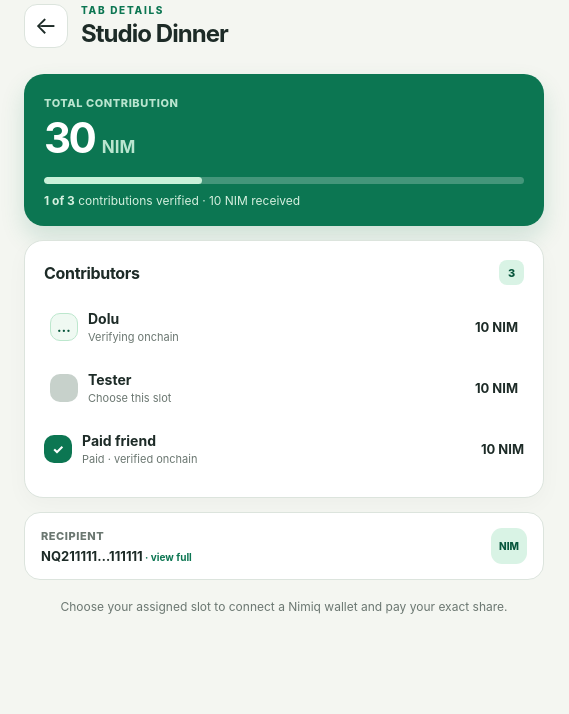
Test: Tab participant recovery selection › makes a pending confirming slot inspectable without exposing payment controls
Click the button "… Dolu Verifying onchain 10 NIM" at coordinates (104, 319), box [44,298,524,356]
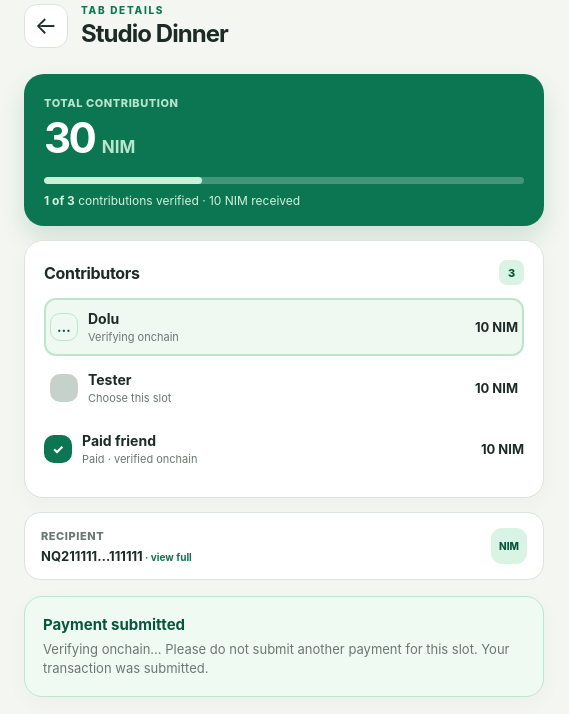
Result: the text "do not submit another payment" is shown at [43,641,510,676]
